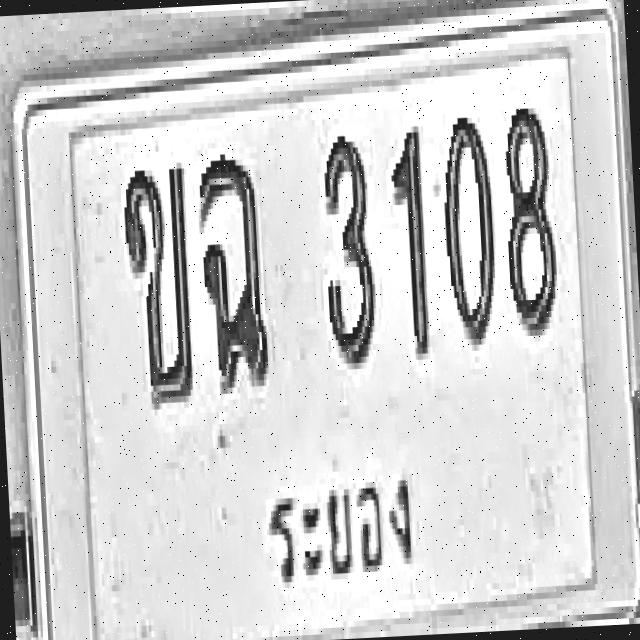0: (438, 110, 498, 347)
1: (388, 120, 432, 360)
11KhorKhai: (120, 160, 197, 408)
18ChorChing: (196, 149, 272, 392)
3: (317, 128, 378, 364)
8: (499, 101, 558, 338)
Rayong: (252, 436, 430, 618)
